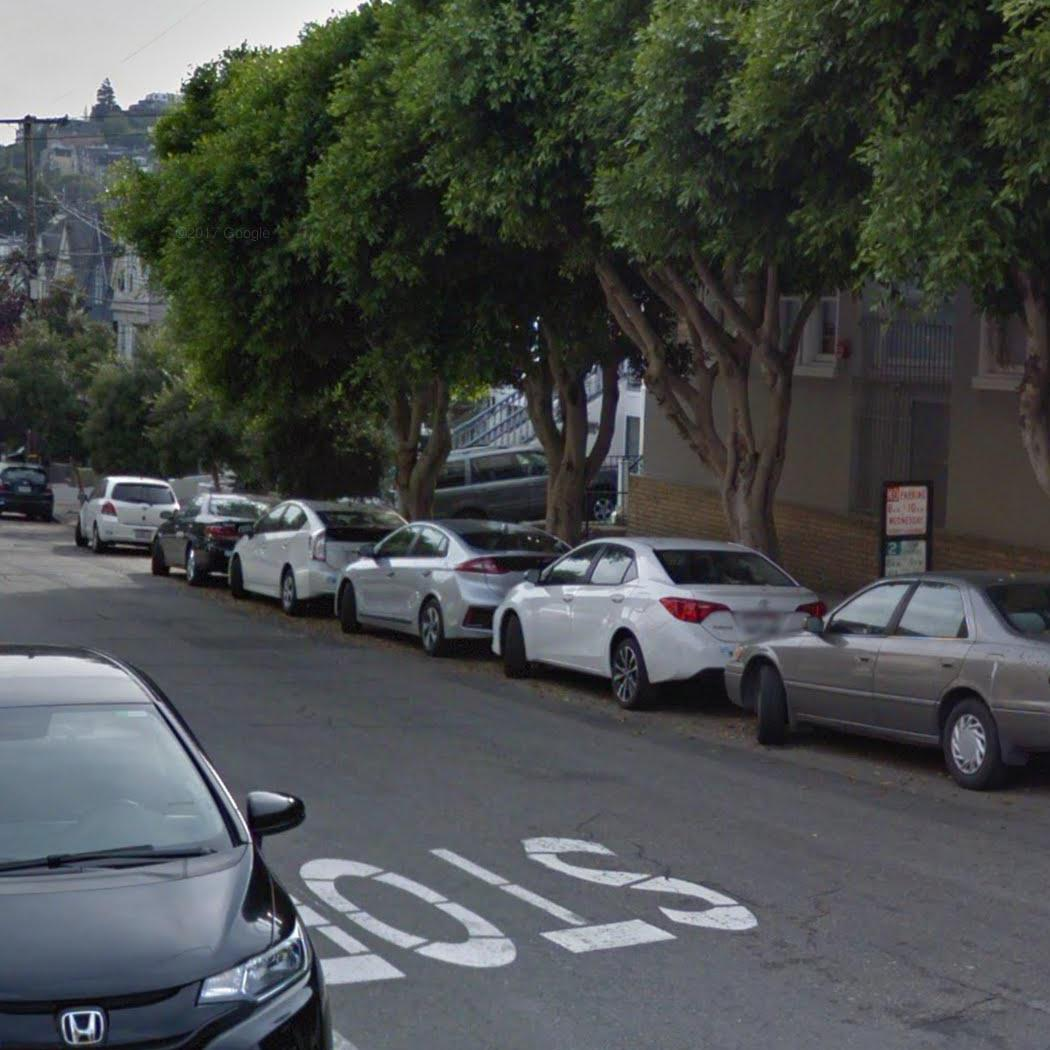2 Hour Parking: (880, 538, 932, 580)
No Parking: (882, 481, 932, 539)
